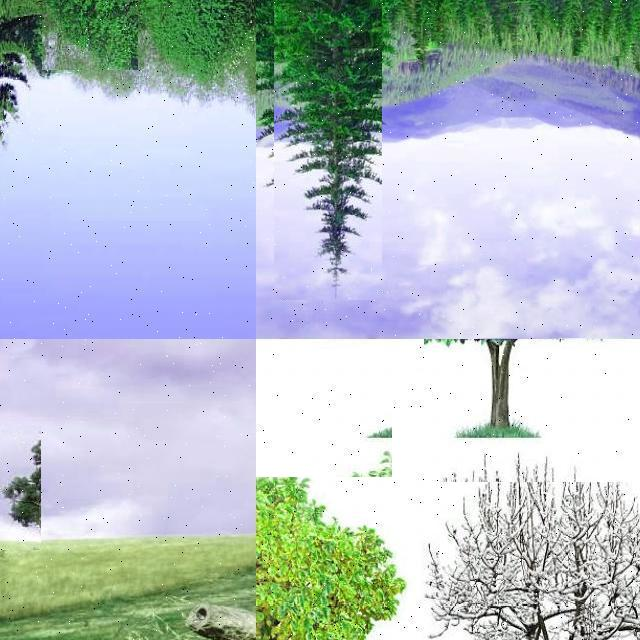tree: (432, 448, 640, 640), (274, 0, 382, 300), (424, 338, 640, 482), (256, 432, 404, 640), (256, 339, 392, 477), (157, 0, 256, 84), (42, 0, 138, 70), (0, 426, 41, 550), (402, 0, 446, 80), (501, 0, 553, 60), (572, 0, 620, 56), (598, 1, 640, 64), (526, 0, 570, 54), (485, 0, 527, 56), (556, 0, 596, 56), (434, 0, 474, 54), (264, 0, 296, 36), (624, 0, 640, 66)
